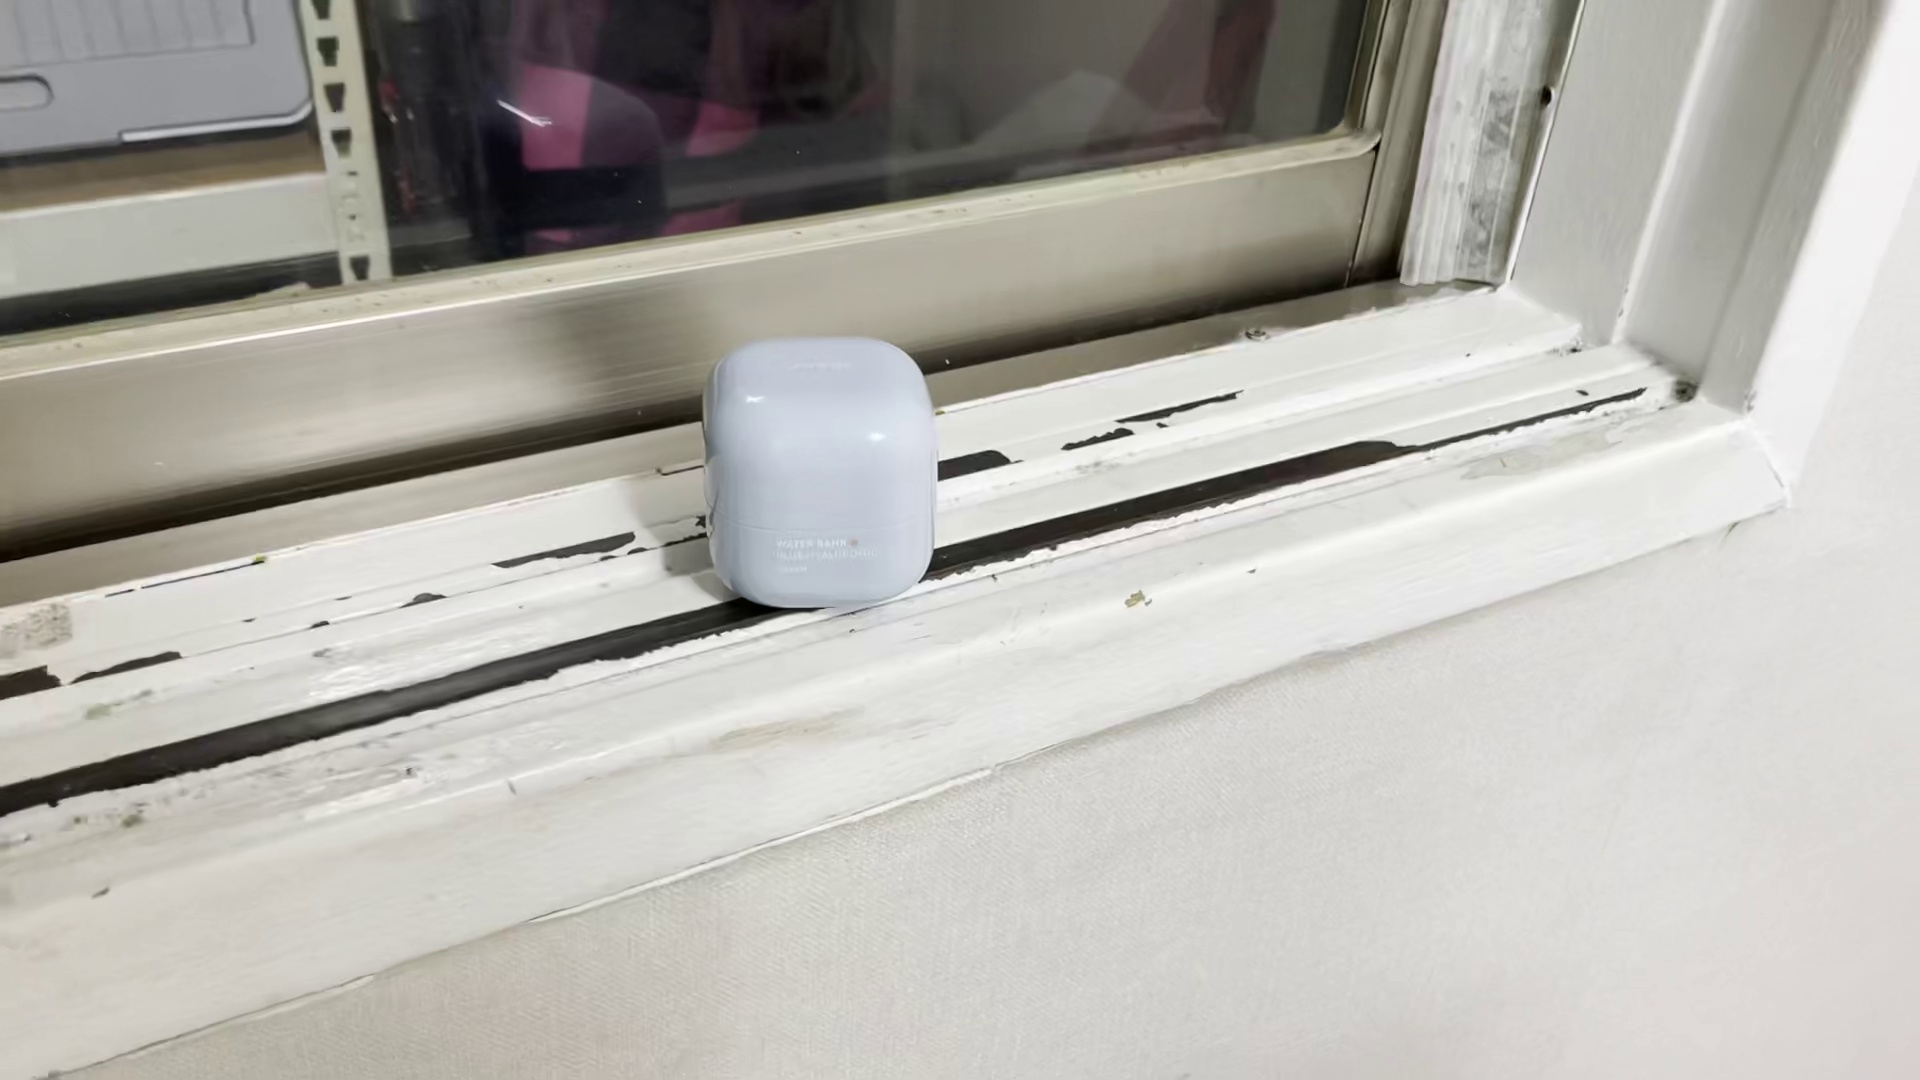cream: (702, 338, 942, 607)
